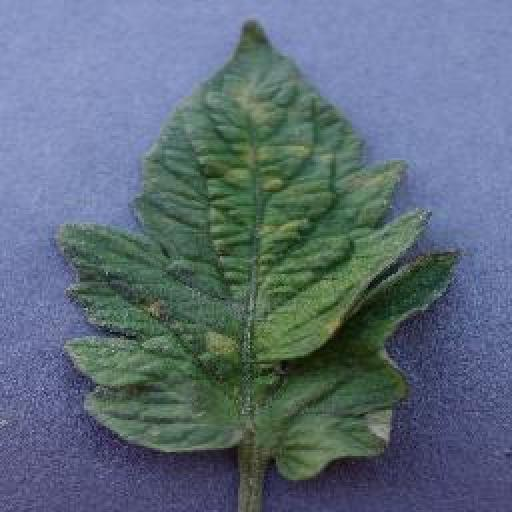Leaf Mold: (55, 20, 463, 480)
